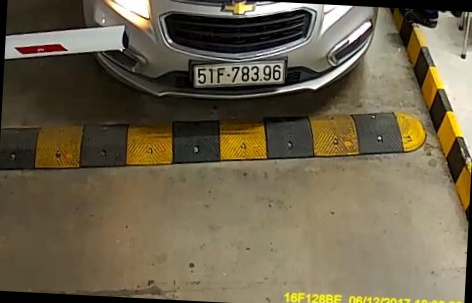plate: (187, 56, 290, 96)
